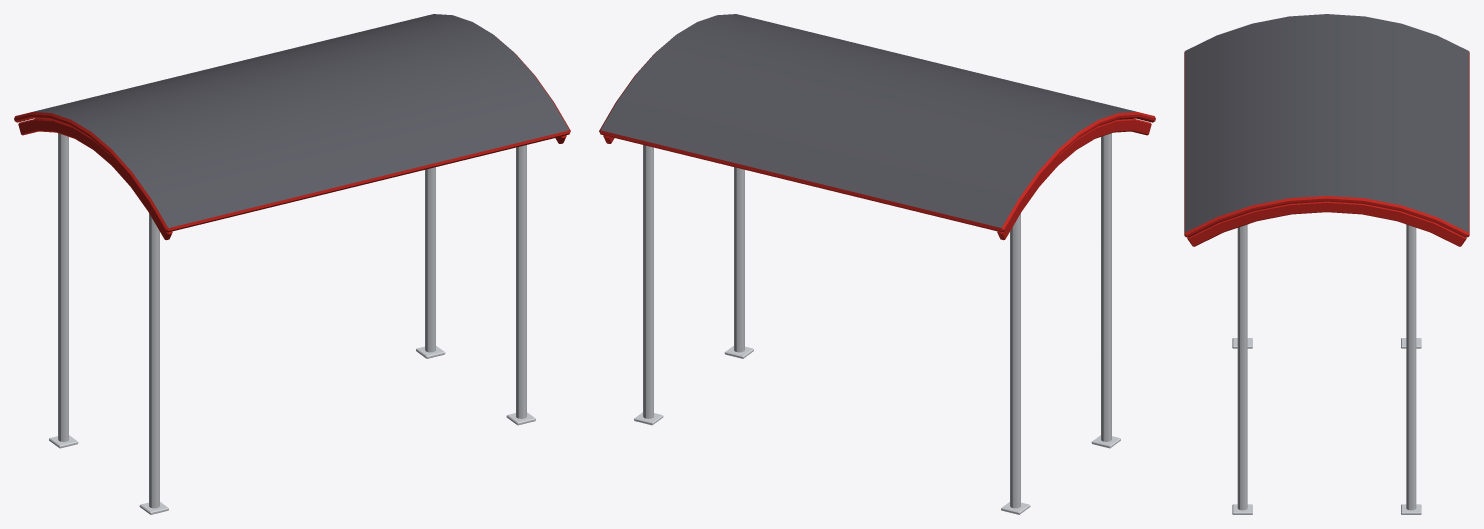
File: techo_curvo_chico.glb
3 views of the same model, side by side, from view 1: azimuth 30°, elevation 25°; view 2: azimuth 150°, elevation 25°; view 3: azimuth 270°, elevation 25° (orthographic). The views are drawn at different scales.
Visible parts, largest first — view 1: pieza_tramo, pieza_punta_izq, pieza_punta_der; view 2: pieza_tramo, pieza_punta_izq, pieza_punta_der; view 3: pieza_tramo, pieza_punta_der, pieza_punta_izq.
Boxes of the visible parts, x1,y1,x2,y2 form: pieza_tramo: (102, 31, 500, 215); pieza_punta_izq: (14, 95, 238, 514); pieza_punta_der: (365, 14, 570, 425); pieza_tramo: (669, 31, 1067, 215); pieza_punta_izq: (931, 95, 1155, 514); pieza_punta_der: (599, 14, 804, 425); pieza_tramo: (1184, 45, 1469, 202); pieza_punta_der: (1184, 164, 1469, 514); pieza_punta_izq: (1184, 14, 1469, 348).
Size of what is drawn, in the model's own units: 1.7 by 1.4 by 1.12.
